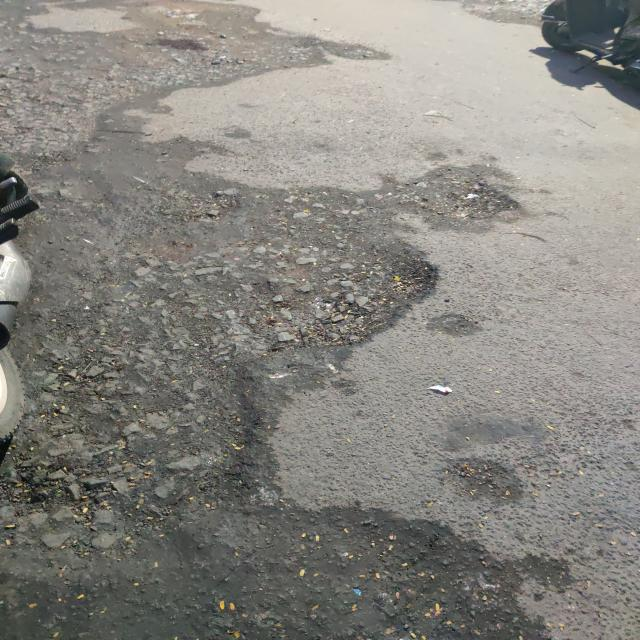potholes: (0, 158, 534, 640), (0, 3, 388, 153)
